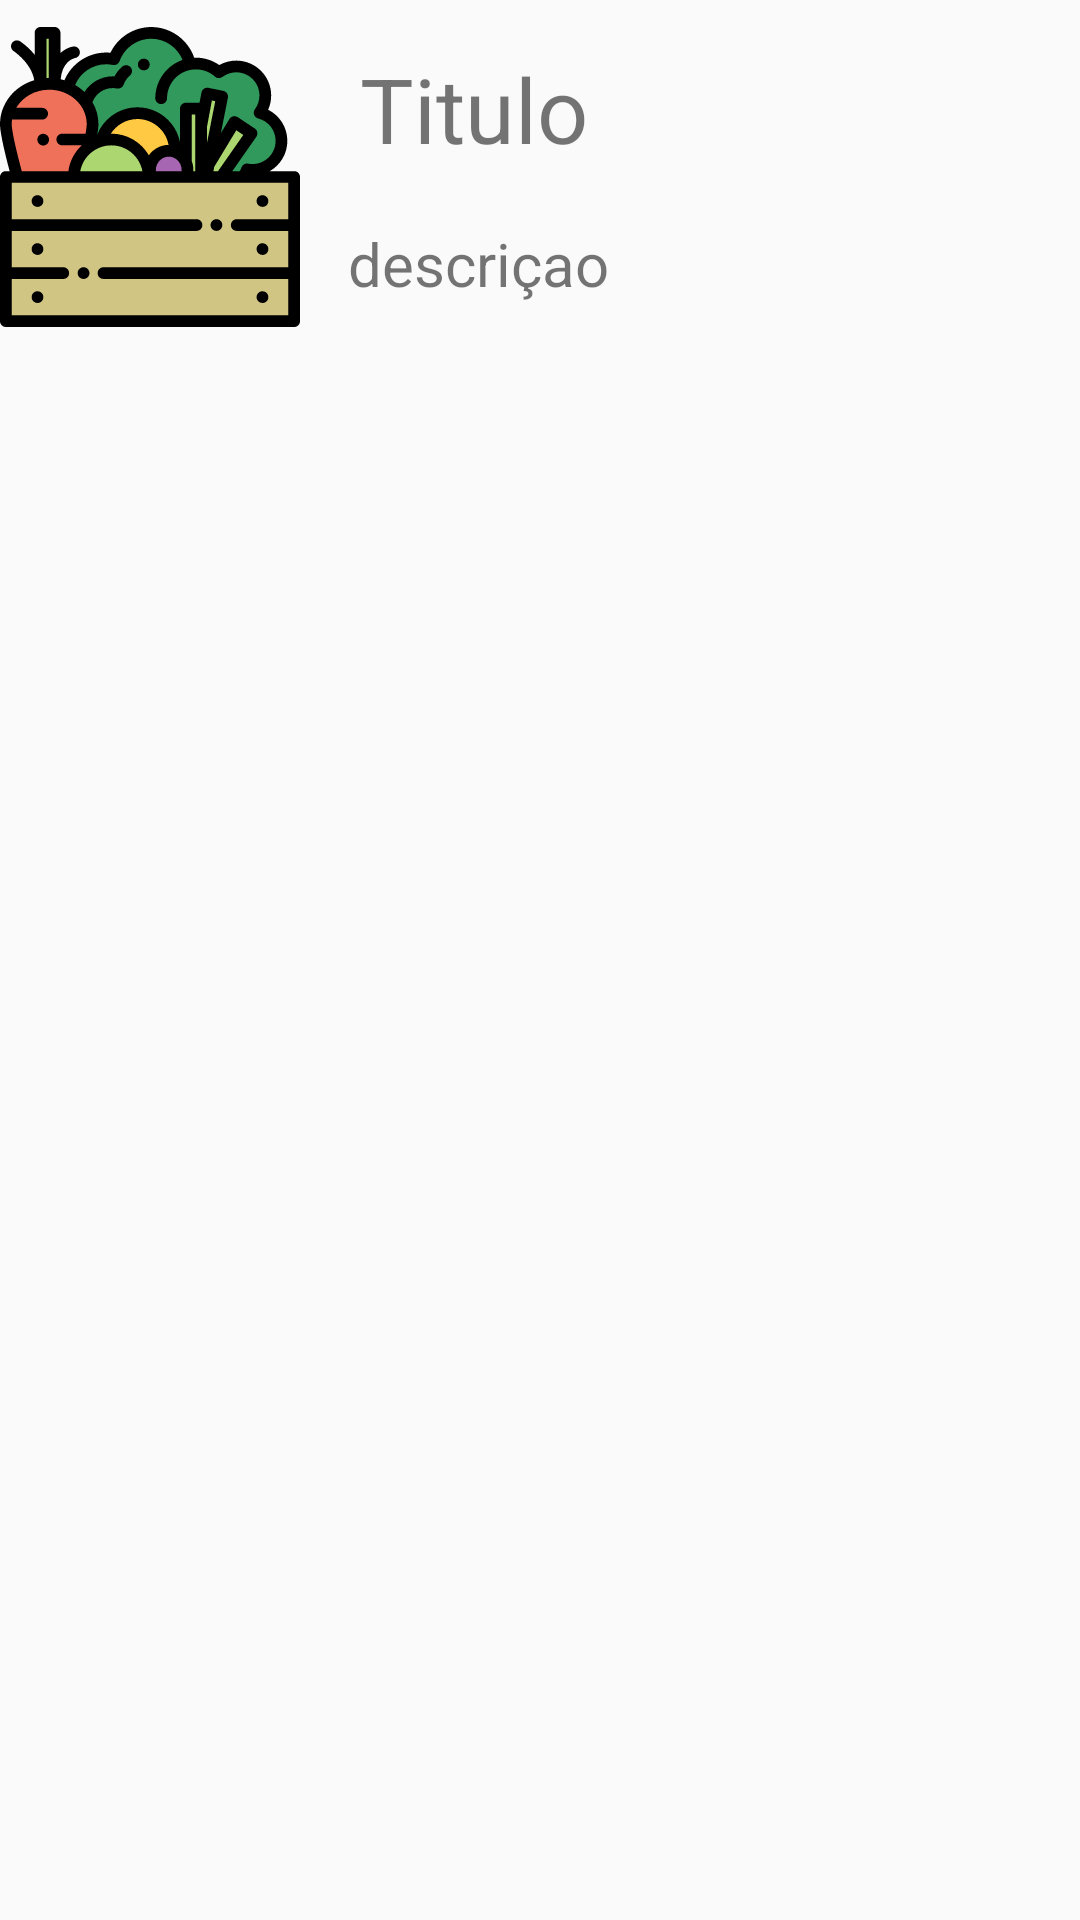

Named icons in this screenshot (1080 × 1920) and their bounding boxes, Rect(x1, y1, x2, y2):
vegetables: Rect(0, 27, 300, 327)
